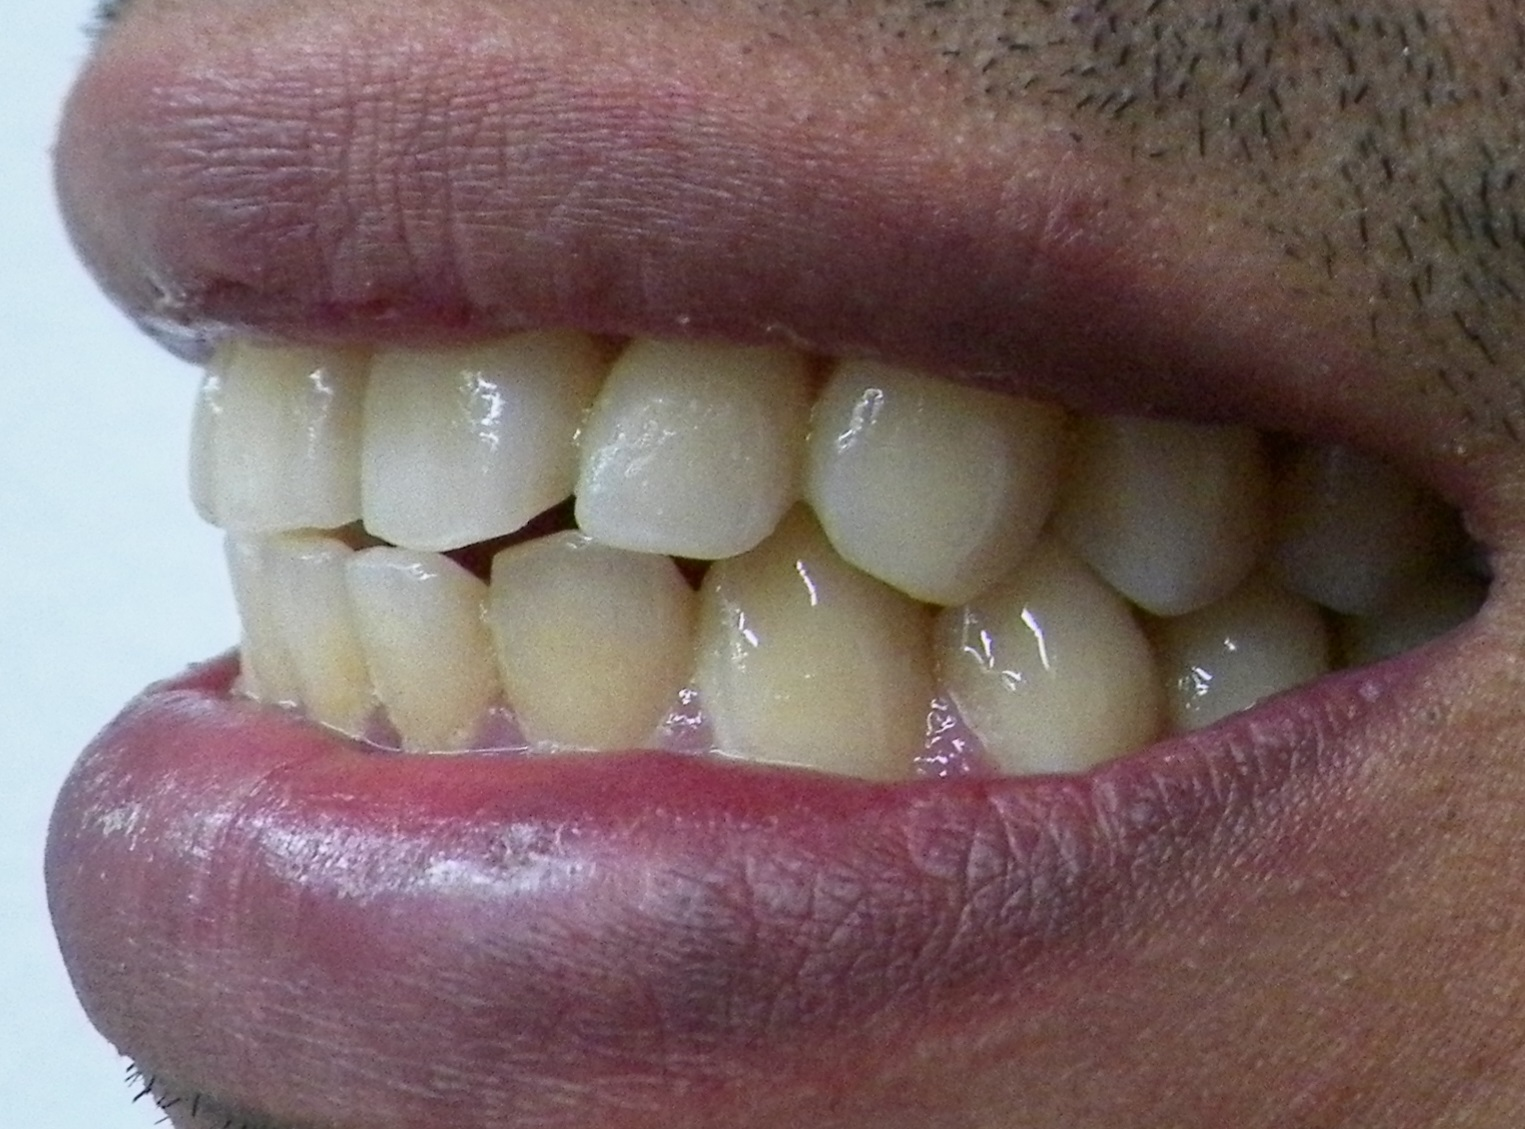boca: (166, 307, 1395, 791)
